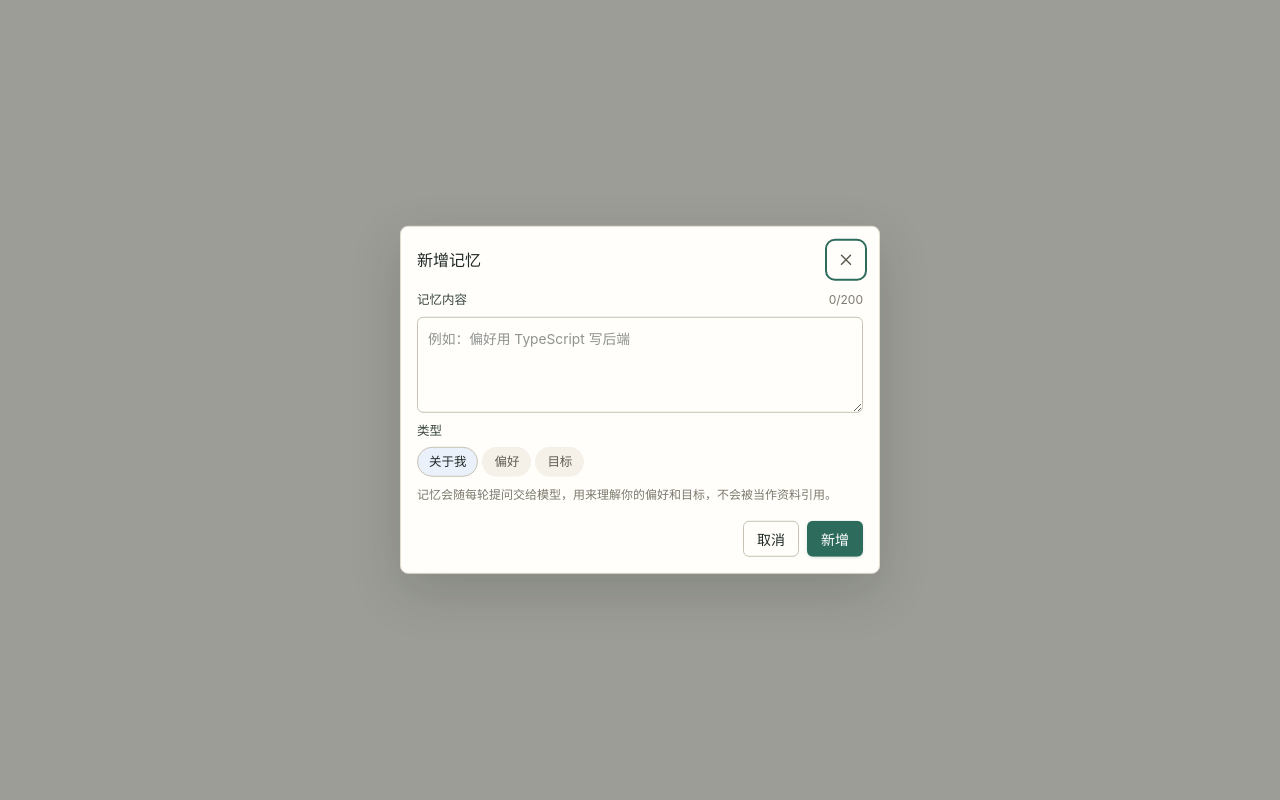
Test: MemoryEditorDialog › counts characters as the user types
Expected: the text "0/200" is shown, [829, 291, 863, 309]
In the text box labelled "记忆内容": (640, 364) [417, 316, 863, 412], type "专注后端"
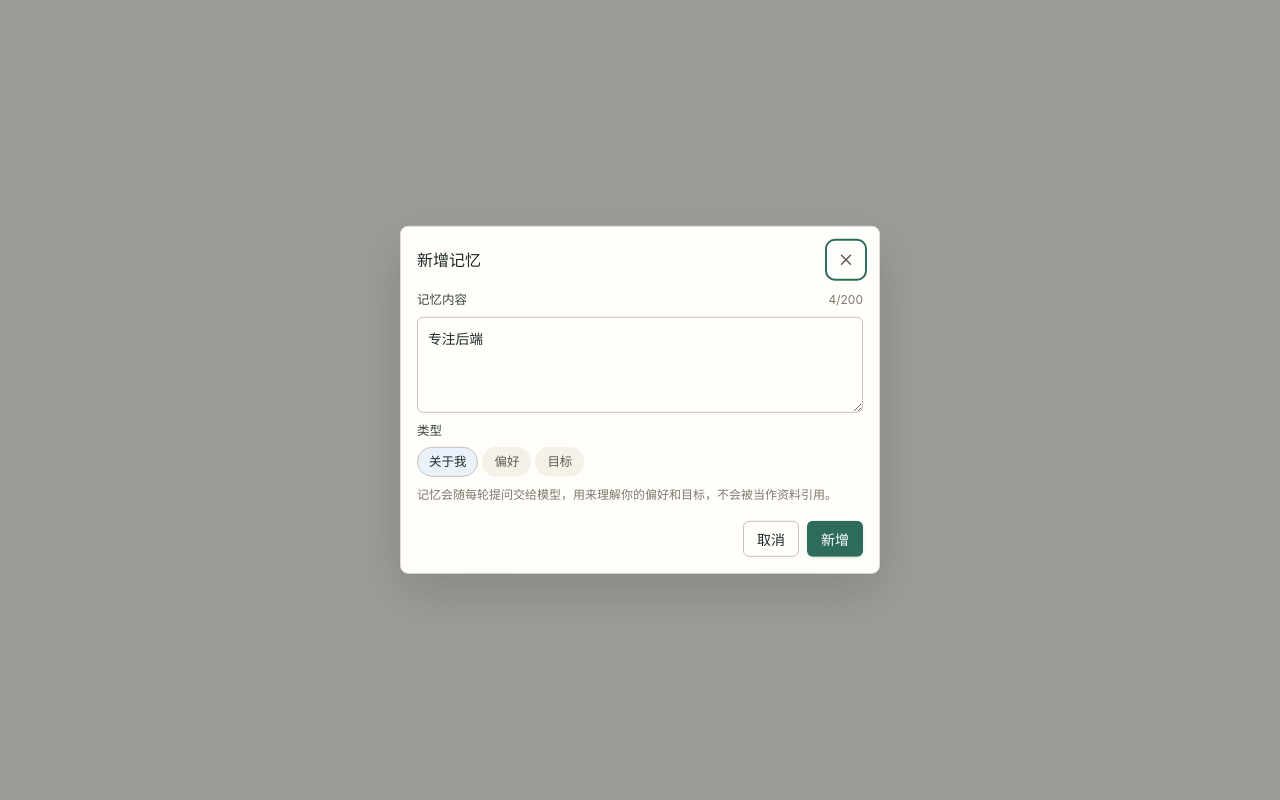
Now the text "4/200" is shown, box [828, 291, 863, 309]
